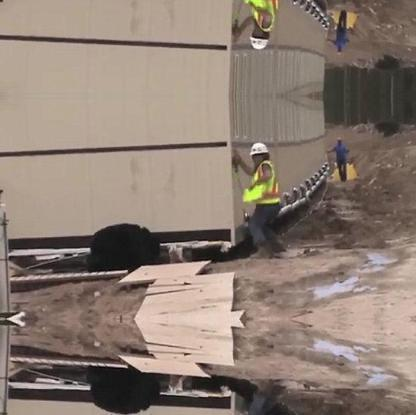helmet: (248, 138, 272, 158)
